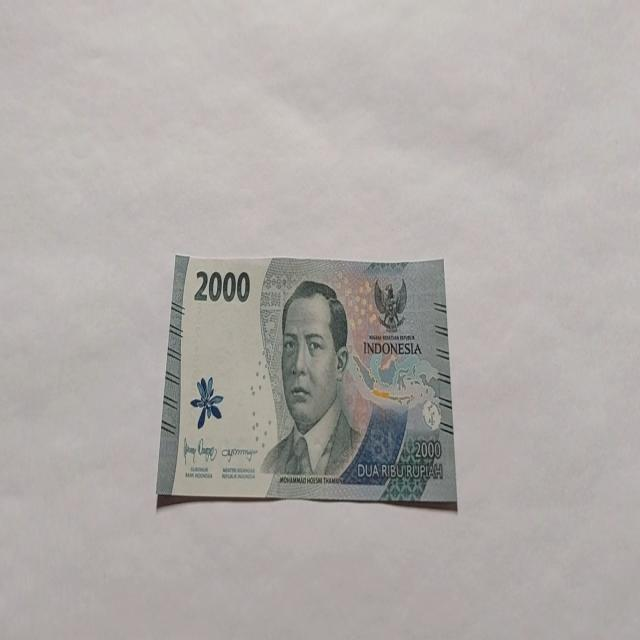dua ribu rupiah: (156, 252, 458, 512), (260, 278, 362, 479)
